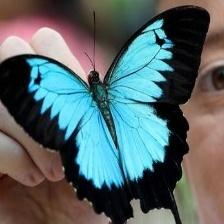butterfly: (0, 6, 211, 224)
